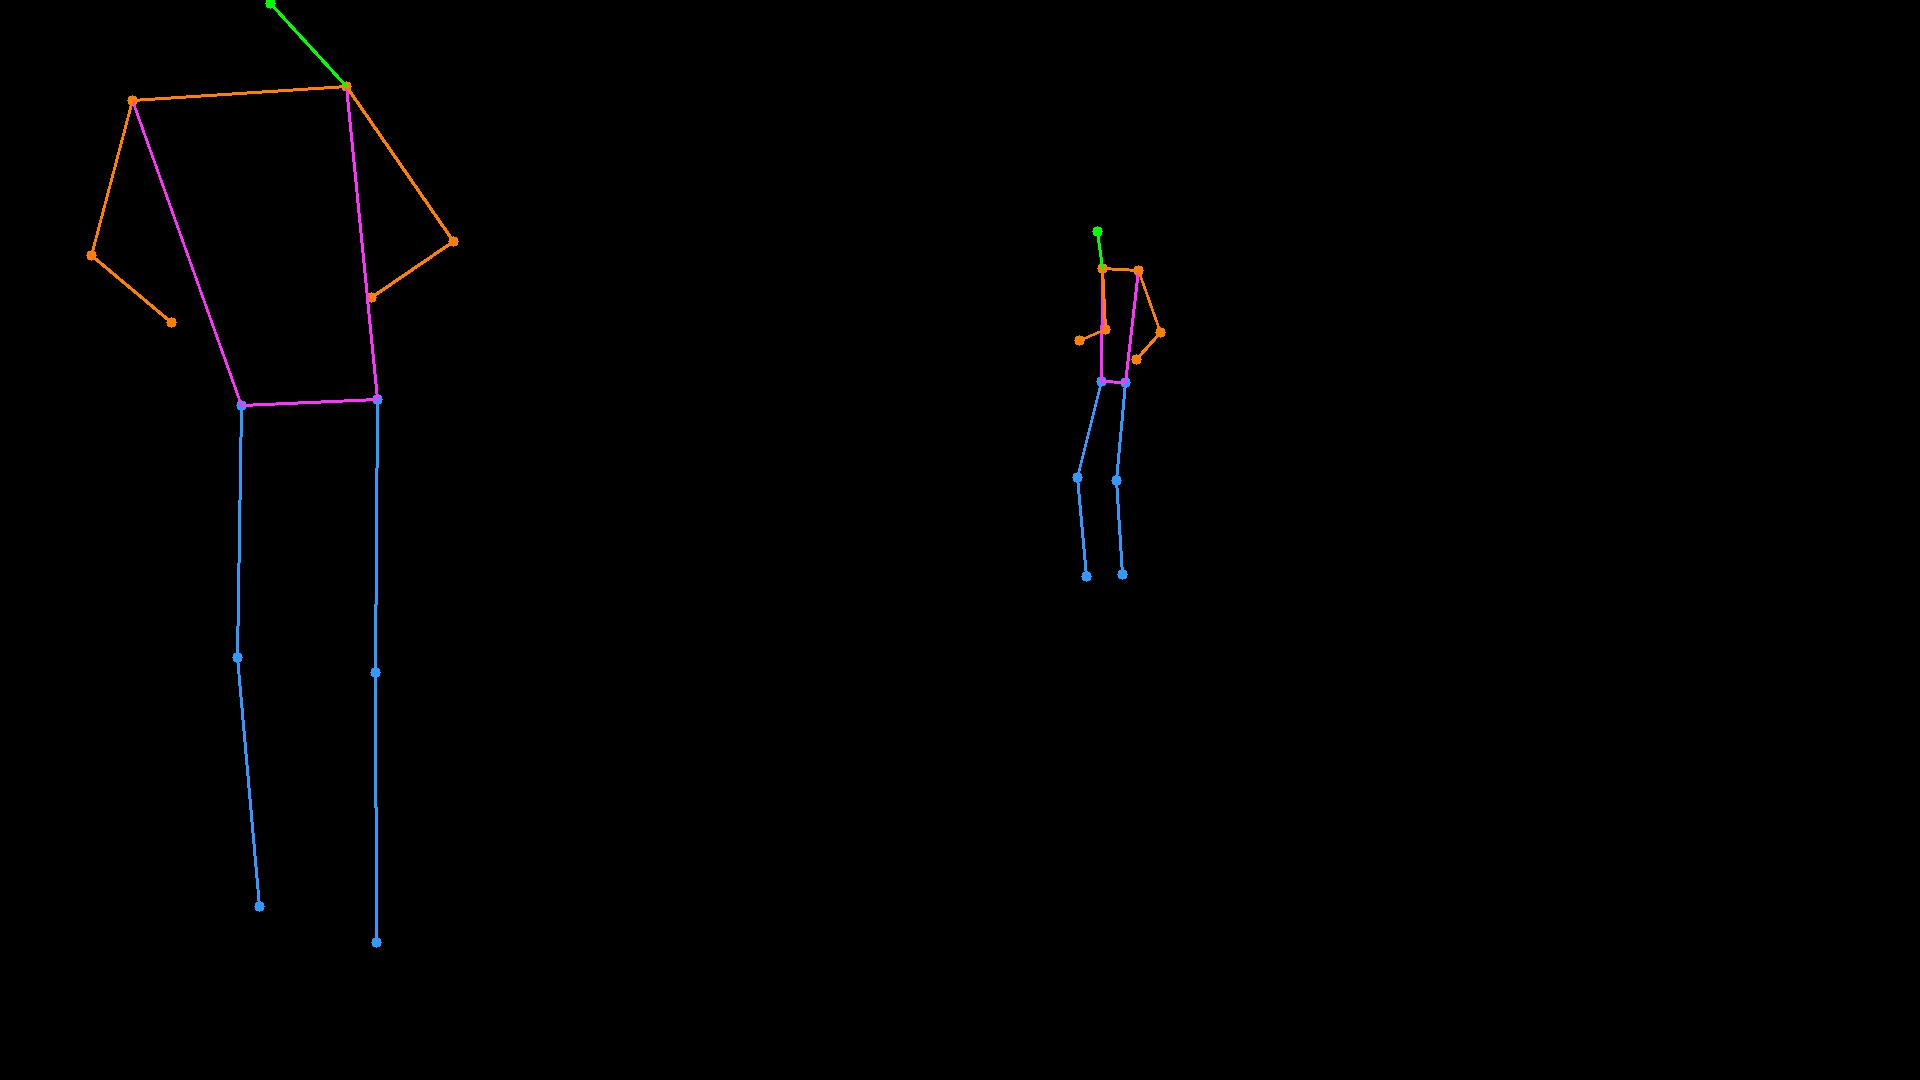normal: (59, 4, 462, 986), (1039, 196, 1162, 626)
